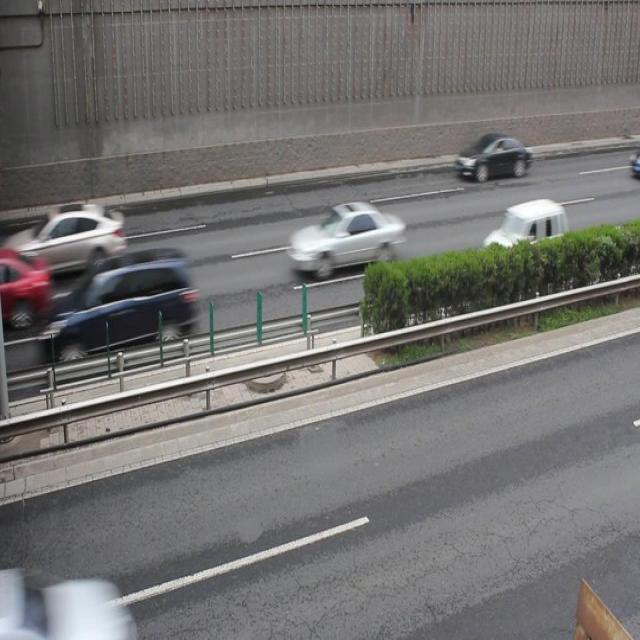car: (45, 247, 196, 356), (1, 565, 135, 640), (289, 200, 404, 276), (1, 205, 127, 269), (483, 198, 567, 262), (0, 244, 50, 330), (455, 134, 532, 182), (626, 147, 640, 183)
